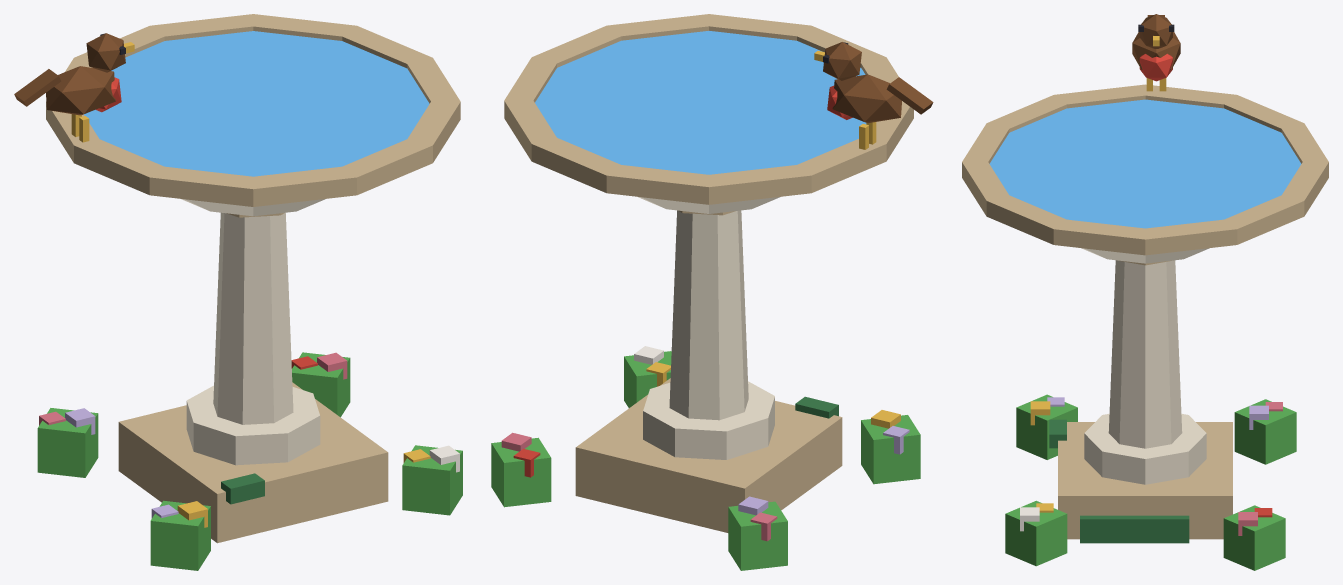
File: CatCafe_Lawn_BirdBath.glb
3 renders of one model, left to right at view 1: azimuth 30°, elevation 25°; view 2: azimuth 150°, elevation 25°; view 3: azimuth 270°, elevation 25°, orthographic. The views are drawn at different scales.
Parts seen in each view (by area): view 1: CatCafe_Lawn_BirdBath, CatCafe_Lawn_BirdBath_Water, CatCafe_Lawn_BirdBath_Bird_Bob; view 2: CatCafe_Lawn_BirdBath, CatCafe_Lawn_BirdBath_Water, CatCafe_Lawn_BirdBath_Bird_Bob; view 3: CatCafe_Lawn_BirdBath, CatCafe_Lawn_BirdBath_Water, CatCafe_Lawn_BirdBath_Bird_Bob.
Boxes of the visible parts, x1=… form: CatCafe_Lawn_BirdBath: x1=37, y1=14, x2=462, y2=570; CatCafe_Lawn_BirdBath_Water: x1=84, y1=31, x2=429, y2=176; CatCafe_Lawn_BirdBath_Bird_Bob: x1=14, y1=33, x2=134, y2=142; CatCafe_Lawn_BirdBath: x1=491, y1=14, x2=920, y2=570; CatCafe_Lawn_BirdBath_Water: x1=535, y1=31, x2=866, y2=174; CatCafe_Lawn_BirdBath_Bird_Bob: x1=814, y1=42, x2=933, y2=149; CatCafe_Lawn_BirdBath: x1=962, y1=84, x2=1328, y2=570; CatCafe_Lawn_BirdBath_Water: x1=989, y1=99, x2=1301, y2=228; CatCafe_Lawn_BirdBath_Bird_Bob: x1=1132, y1=14, x2=1180, y2=91.
Bounding box in the file's own units: 1.91 × 2.16 × 1.68.
Materials: 1 (1 with a texture image).
